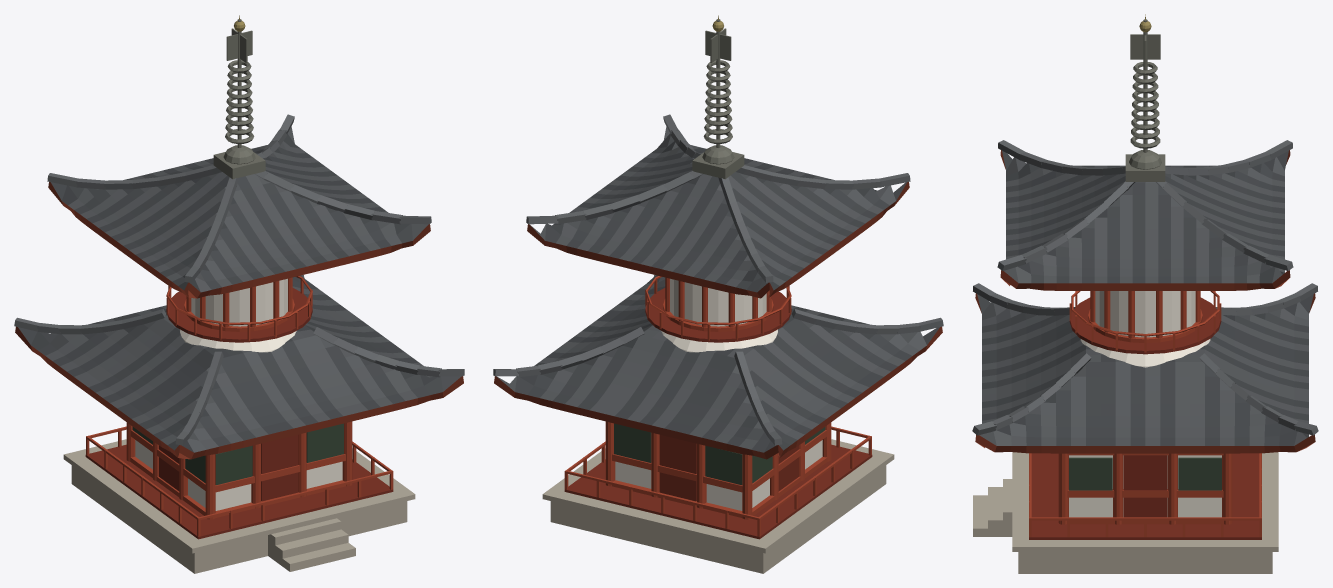
Rendered from jodoji_tahoto.glb.
The picture shows the model from 3 angles, left to right: view 1: azimuth 30°, elevation 25°; view 2: azimuth 150°, elevation 25°; view 3: azimuth 270°, elevation 25°; orthographic projection. The views are drawn at different scales.
Visible parts, largest first — view 1: jodoji_tahoto; view 2: jodoji_tahoto; view 3: jodoji_tahoto.
Part boxes in pixels (bbox=[...]): jodoji_tahoto: bbox=[14, 15, 464, 573]; jodoji_tahoto: bbox=[493, 15, 943, 573]; jodoji_tahoto: bbox=[972, 14, 1318, 573].
Size of the model in its own units: 11.42 by 18.44 by 11.44.
